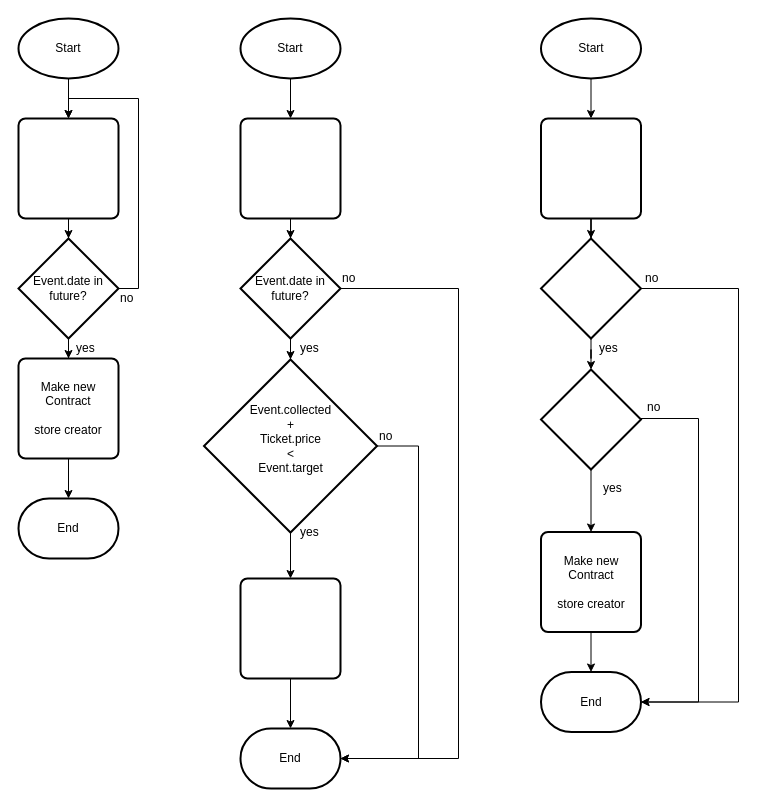
The diagram is 764 pixels wide and 806 high, and some of its shapes have lost their labels. Each missing label, with the centre of its shape:
"Balance positive?" belongs at point 591,419.
"Buy Ticket" belongs at point 290,168.
"Create new Croudfunded Event" belongs at point 68,168.
"Event.date in past?" belongs at point 591,288.
"store buyer.address in attendees" belongs at point 290,628.
"Withdraw" belongs at point 591,168.
